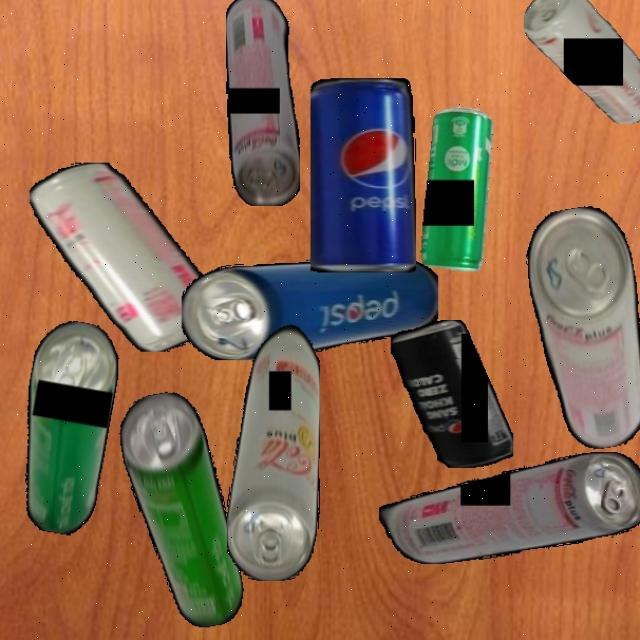debris: (30, 162, 230, 352), (114, 385, 248, 636), (517, 201, 640, 455), (378, 451, 640, 564), (5, 316, 126, 538), (182, 257, 438, 360), (226, 319, 320, 581), (310, 78, 416, 273), (390, 320, 513, 468), (225, 0, 300, 206), (523, 0, 640, 124), (419, 106, 493, 272)
